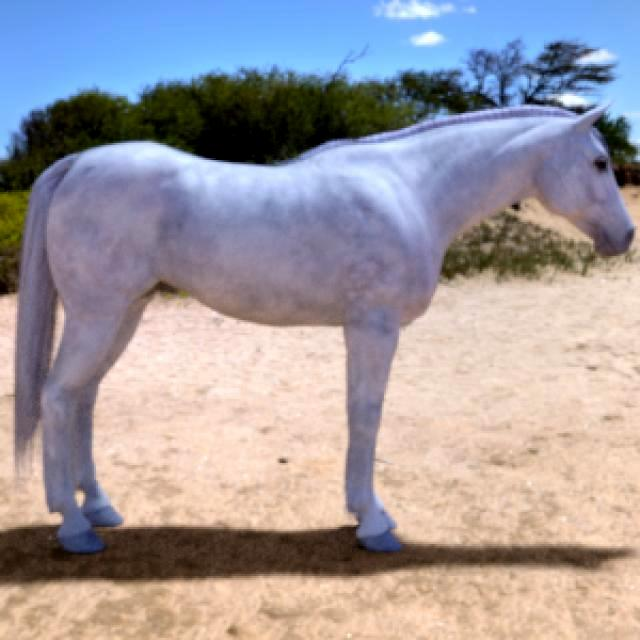horse: (15, 106, 634, 553)
